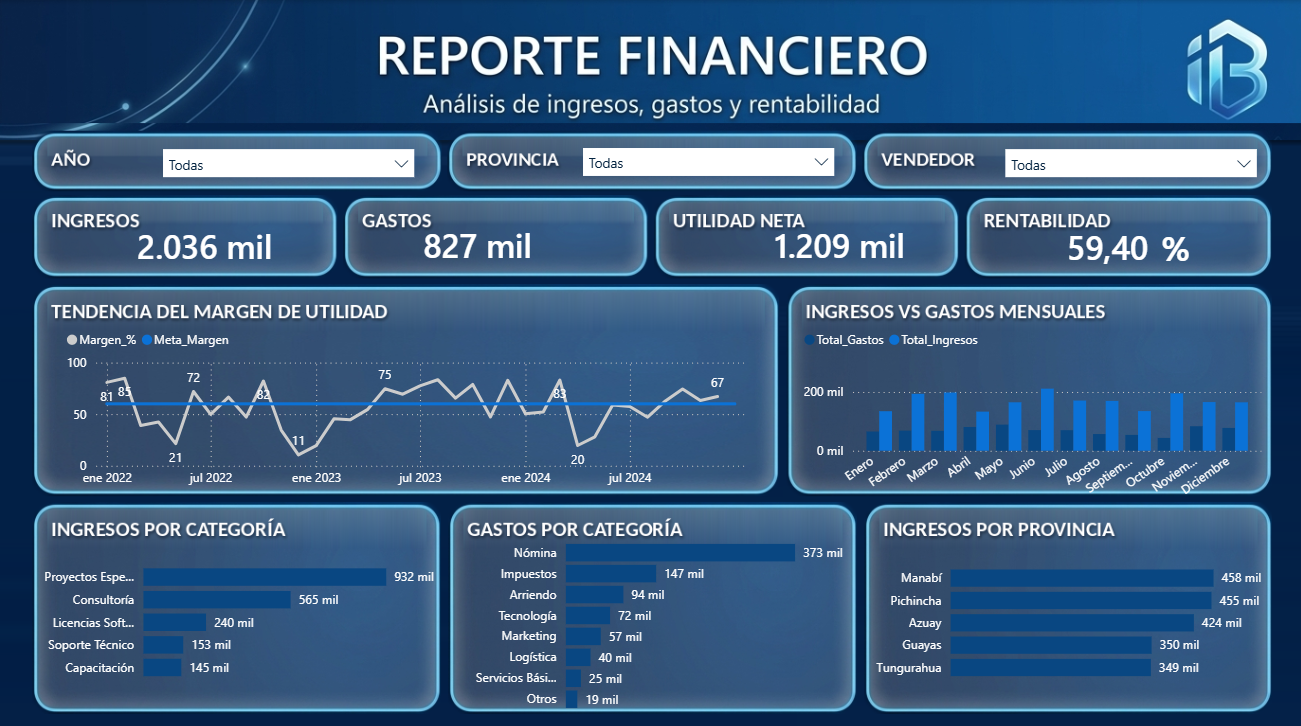

The dashboard page shown, as its layout file describes it:
{"tool":"powerbi","page":{"name":"Página 1","canvas":[1280,720],"ordinal":0},"visuals":[{"type":"cardVisual","title":"INGRESOS","fields":{"Data":["Gastos.Total_Ingresos"]},"box":[105,205,215,70],"z":0},{"type":"cardVisual","title":" GASTOS","fields":{"Data":["Gastos.Total_Gastos"]},"box":[386.7,196.7,215.7,85.7],"z":1000},{"type":"cardVisual","title":"UTILIDAD NETA","fields":{"Data":["Gastos.Utilidad_Neta"]},"box":[731.7,191.7,192.9,95.7],"z":2000},{"type":"cardVisual","title":"MARGEN DE RENTABILIDAD","fields":{"Data":["Gastos.Margen_%"]},"box":[1018.3,193.3,190,95.7],"z":3000},{"type":"clusteredColumnChart","title":"INGRESOS VS GASTOS MENSUALES","fields":{"Category":["Resumen_Mensual.Mes"],"Y":["Gastos.Total_Gastos","Gastos.Total_Ingresos"]},"box":[784.5,314.1,459.2,184.5],"z":4000},{"type":"clusteredBarChart","title":"GASTOS POR CATEGORÍA","fields":{"Category":["Gastos.Categoría"],"Y":["Gastos.Total_Gastos"]},"box":[446.5,512.7,385.9,195.8],"z":5000},{"type":"clusteredBarChart","title":"INGRESOS POR CATEGORÍA","fields":{"Category":["Ingresos.Categoría"],"Y":["Gastos.Total_Ingresos"]},"box":[26.8,536.6,404.2,142.3],"z":6000},{"type":"lineChart","title":"TENDENCIA DEL MARGEN DE UTILIDAD ","fields":{"Category":["Resumen_Mensual.Fecha_Mes.Variation.Jerarquía de fechas.Año","Resumen_Mensual.Fecha_Mes.Variation.Jerarquía de fechas.Trimestre","Resumen_Mensual.Fecha_Mes.Variation.Jerarquía de fechas.Mes","Resumen_Mensual.Fecha_Mes.Variation.Jerarquía de fechas.Día"],"Y":["Gastos.Margen_%","Gastos.Meta_Margen"]},"box":[60.6,314.1,687.3,173.2],"z":7000},{"type":"slicer","title":"AÑO","fields":{"Values":["Resumen_Mensual.Año"]},"box":[150,136.7,266.7,45],"z":8000},{"type":"slicer","title":"PROVINCIA","fields":{"Values":["Ingresos.Región"]},"box":[561.7,135,266.7,50],"z":9000},{"type":"slicer","title":"VENDEDOR","fields":{"Values":["Ingresos.Vendedor"]},"box":[976.7,136.7,266.7,53.3],"z":10000},{"type":"clusteredBarChart","title":"INGRESOS POR PROVINCIA","fields":{"Category":["Ingresos.Provincia "],"Y":["Gastos.Total_Ingresos"]},"box":[850.7,538,393,140.8],"z":11000},{"type":"textbox","box":[1135,216.7,80,60],"z":12000}]}

Visuals, with their boxes in screenshot pixels (x1, y1, x2, y2), scaled from the page's 1280x720 canvas onto the 1301x726 screenshot:
"INGRESOS" cardVisual: detection(107, 207, 325, 277)
" GASTOS" cardVisual: detection(393, 198, 612, 285)
"UTILIDAD NETA" cardVisual: detection(744, 193, 940, 290)
"MARGEN DE RENTABILIDAD" cardVisual: detection(1035, 195, 1228, 291)
"INGRESOS VS GASTOS MENSUALES" clusteredColumnChart: detection(797, 317, 1264, 503)
"GASTOS POR CATEGORÍA" clusteredBarChart: detection(454, 517, 846, 714)
"INGRESOS POR CATEGORÍA" clusteredBarChart: detection(27, 541, 438, 685)
"TENDENCIA DEL MARGEN DE UTILIDAD " lineChart: detection(62, 317, 760, 491)
"AÑO" slicer: detection(152, 138, 424, 183)
"PROVINCIA" slicer: detection(571, 136, 842, 187)
"VENDEDOR" slicer: detection(993, 138, 1264, 192)
"INGRESOS POR PROVINCIA" clusteredBarChart: detection(865, 542, 1264, 684)
textbox: detection(1154, 219, 1235, 279)
